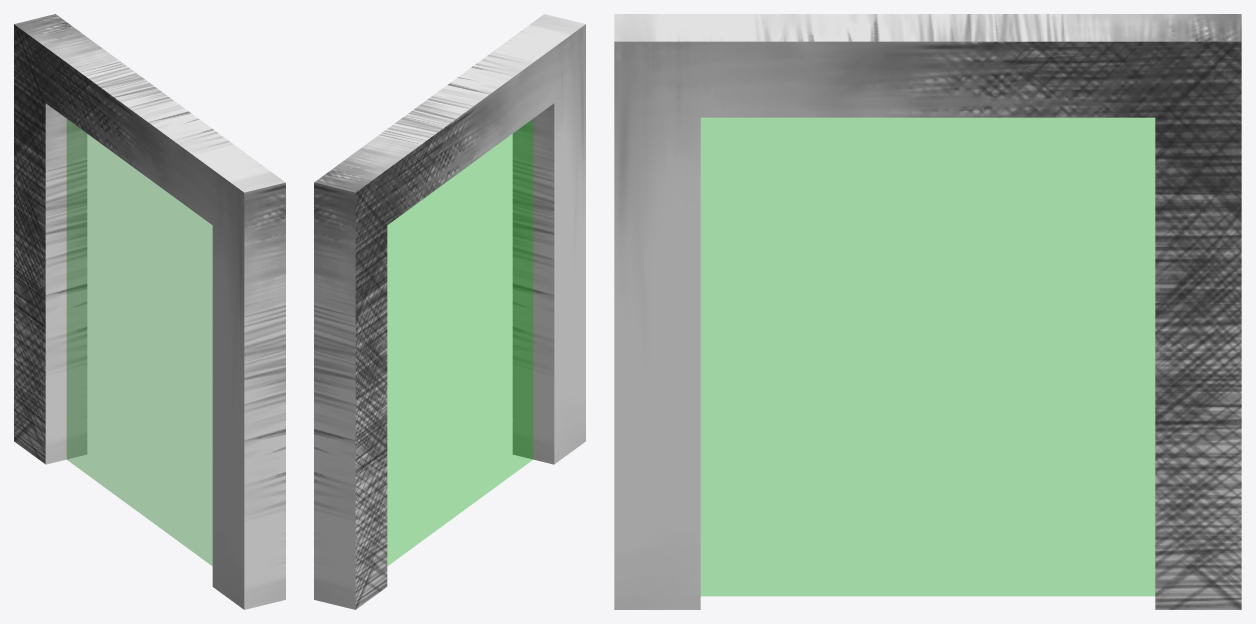
Rendered from Portal.fbx.
The picture shows the model from 3 angles, left to right: view 1: azimuth 30°, elevation 25°; view 2: azimuth 150°, elevation 25°; view 3: azimuth 270°, elevation 25°; orthographic projection. The views are drawn at different scales.
Visible parts, largest first — view 1: Gate, portal; view 2: Gate, portal; view 3: portal, Gate.
Boxes of the visible parts, x1,y1,x2,y2 form: Gate: (14,14,285,609); portal: (67,119,212,565); Gate: (314,14,585,609); portal: (387,119,532,565); portal: (701,118,1154,595); Gate: (614,14,1241,609).
Size of the model in its own units: 0.2085 by 2 by 2.
